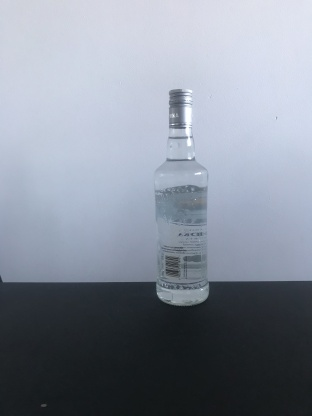nakretka: (167, 85, 194, 131)
